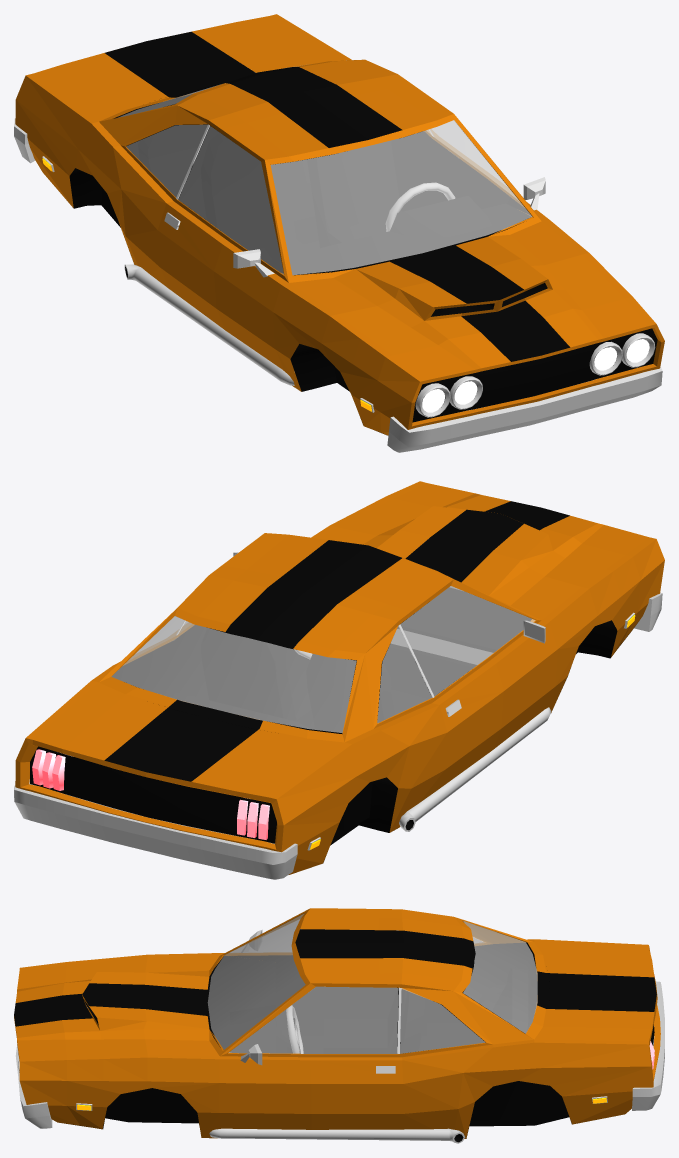
The model's file is chassis-draco.glb.
3 renders of one model, top to bottom at view 1: azimuth 30°, elevation 25°; view 2: azimuth 150°, elevation 25°; view 3: azimuth 270°, elevation 25°, orthographic. The views are drawn at different scales.
Parts seen in each view (by area): view 1: Cube_0; view 2: Cube_0; view 3: Cube_0.
Boxes of the visible parts, <box> form: Cube_0: <box>14,14,664,452</box>; Cube_0: <box>14,481,664,879</box>; Cube_0: <box>14,908,664,1143</box>.
Size of the model in its own units: 5.46 by 3.02 by 12.15.
